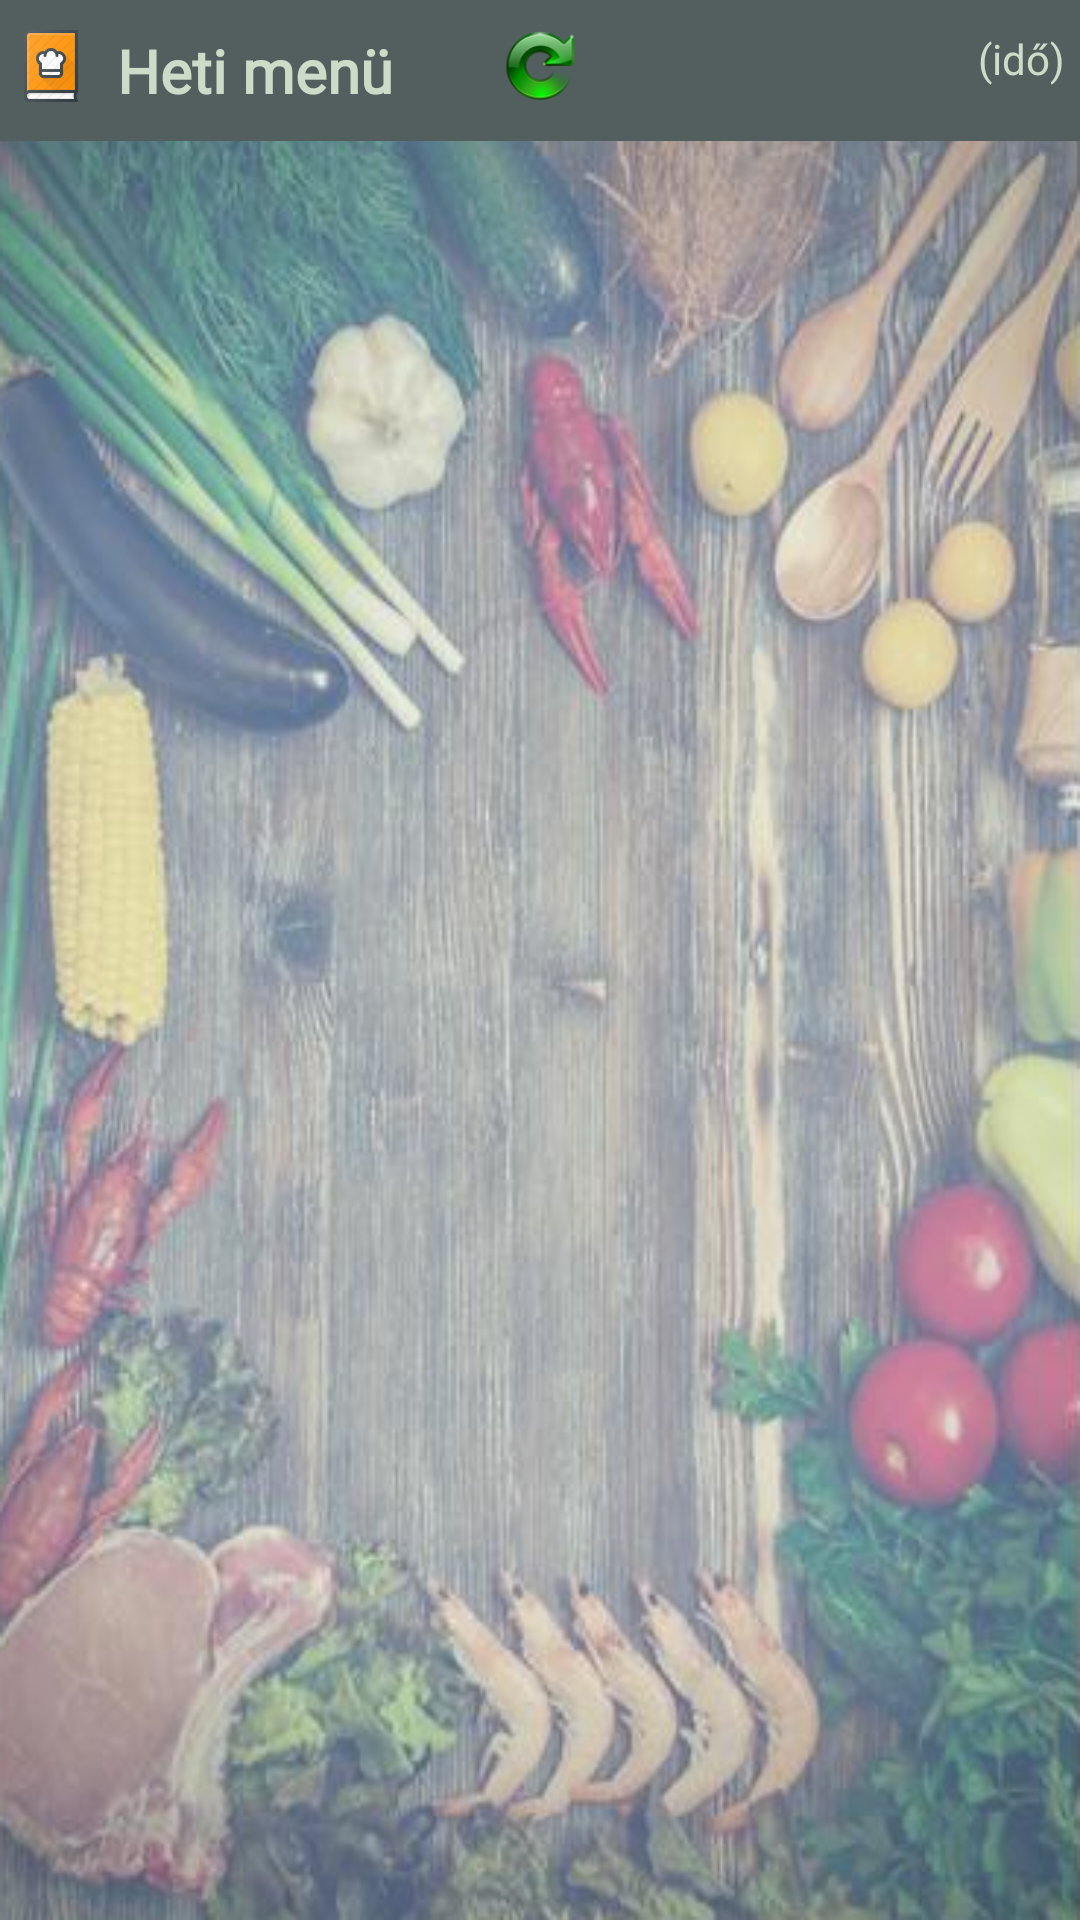

Locate icon controls on the screen. Image size 1080w x 1920h, boxes as (x1, y1, x2, y2).
cookbook: (27, 33, 78, 102)
refresh: (506, 32, 574, 100)
